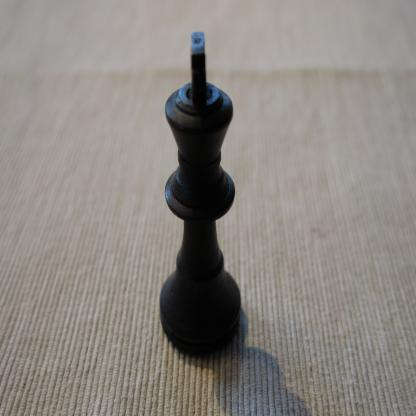black-king: (158, 29, 242, 358)
